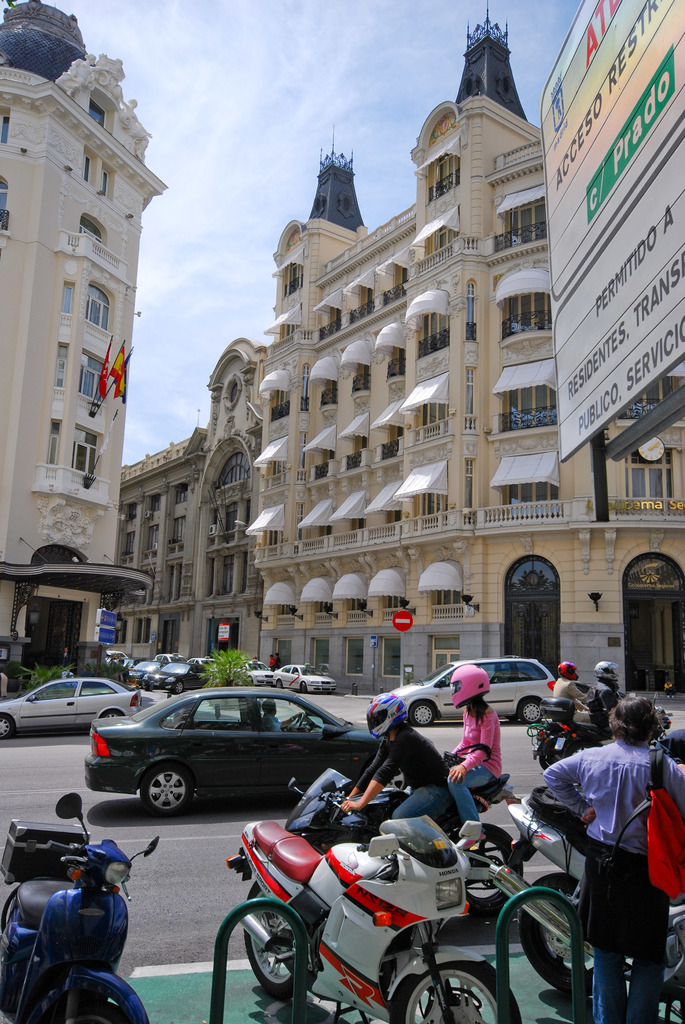Car: (79, 688, 390, 826), (383, 652, 556, 723), (0, 676, 138, 737), (136, 645, 330, 685)
